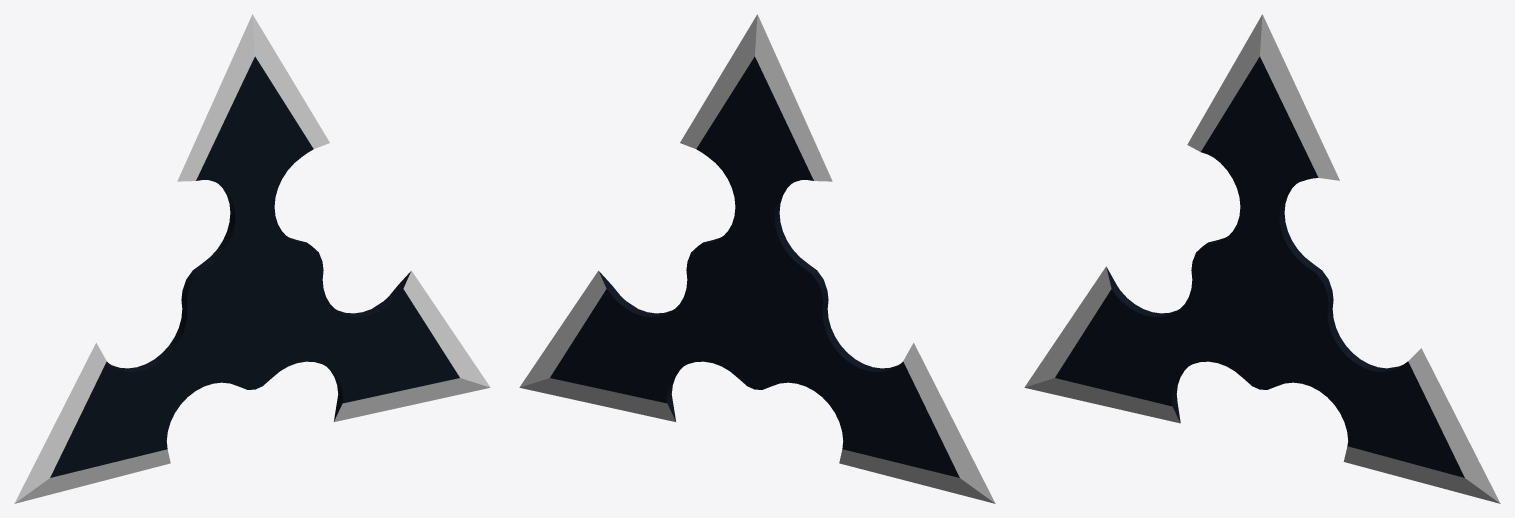
File: shuriken-by-ipoly3d-ruKnDy4mPJ.glb
3 renders of one model, left to right at view 1: azimuth 30°, elevation 25°; view 2: azimuth 150°, elevation 25°; view 3: azimuth 330°, elevation 25°, orthographic.
Parts seen in each view (by area): view 1: Shuriken_4; view 2: Shuriken_4; view 3: Shuriken_4.
Part boxes in pixels (<box>): Shuriken_4: <box>14,14,490,503</box>; Shuriken_4: <box>519,14,995,503</box>; Shuriken_4: <box>1024,14,1500,503</box>.
Size of the model in its own units: 2.01 by 1.74 by 0.0382.
